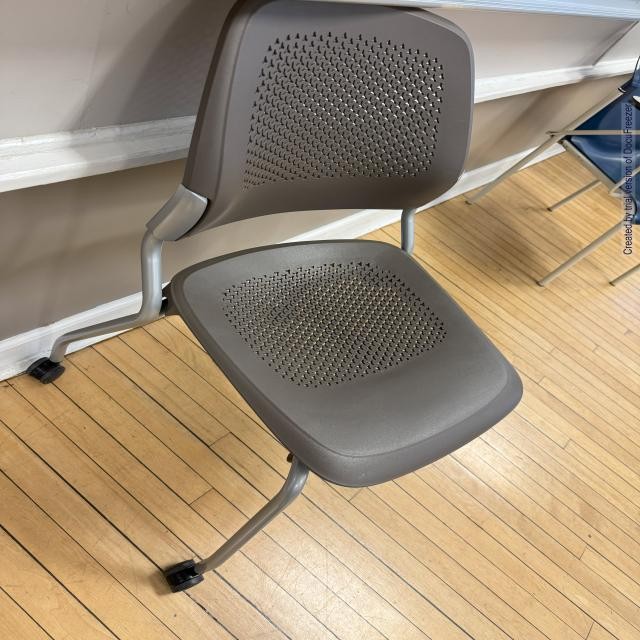chair: (27, 0, 543, 597)
